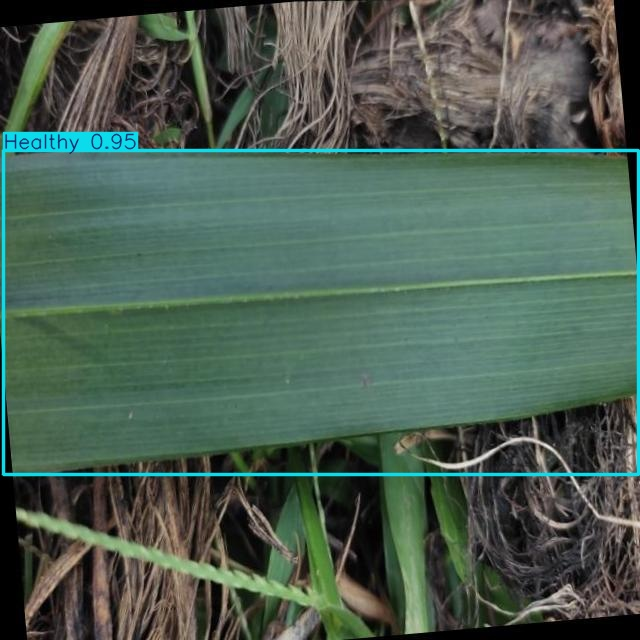Healthy: (3, 150, 639, 474)
